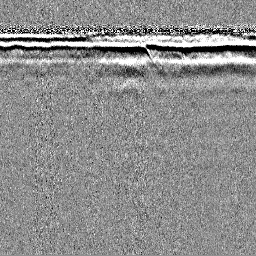cavity: (117, 78, 141, 98)
